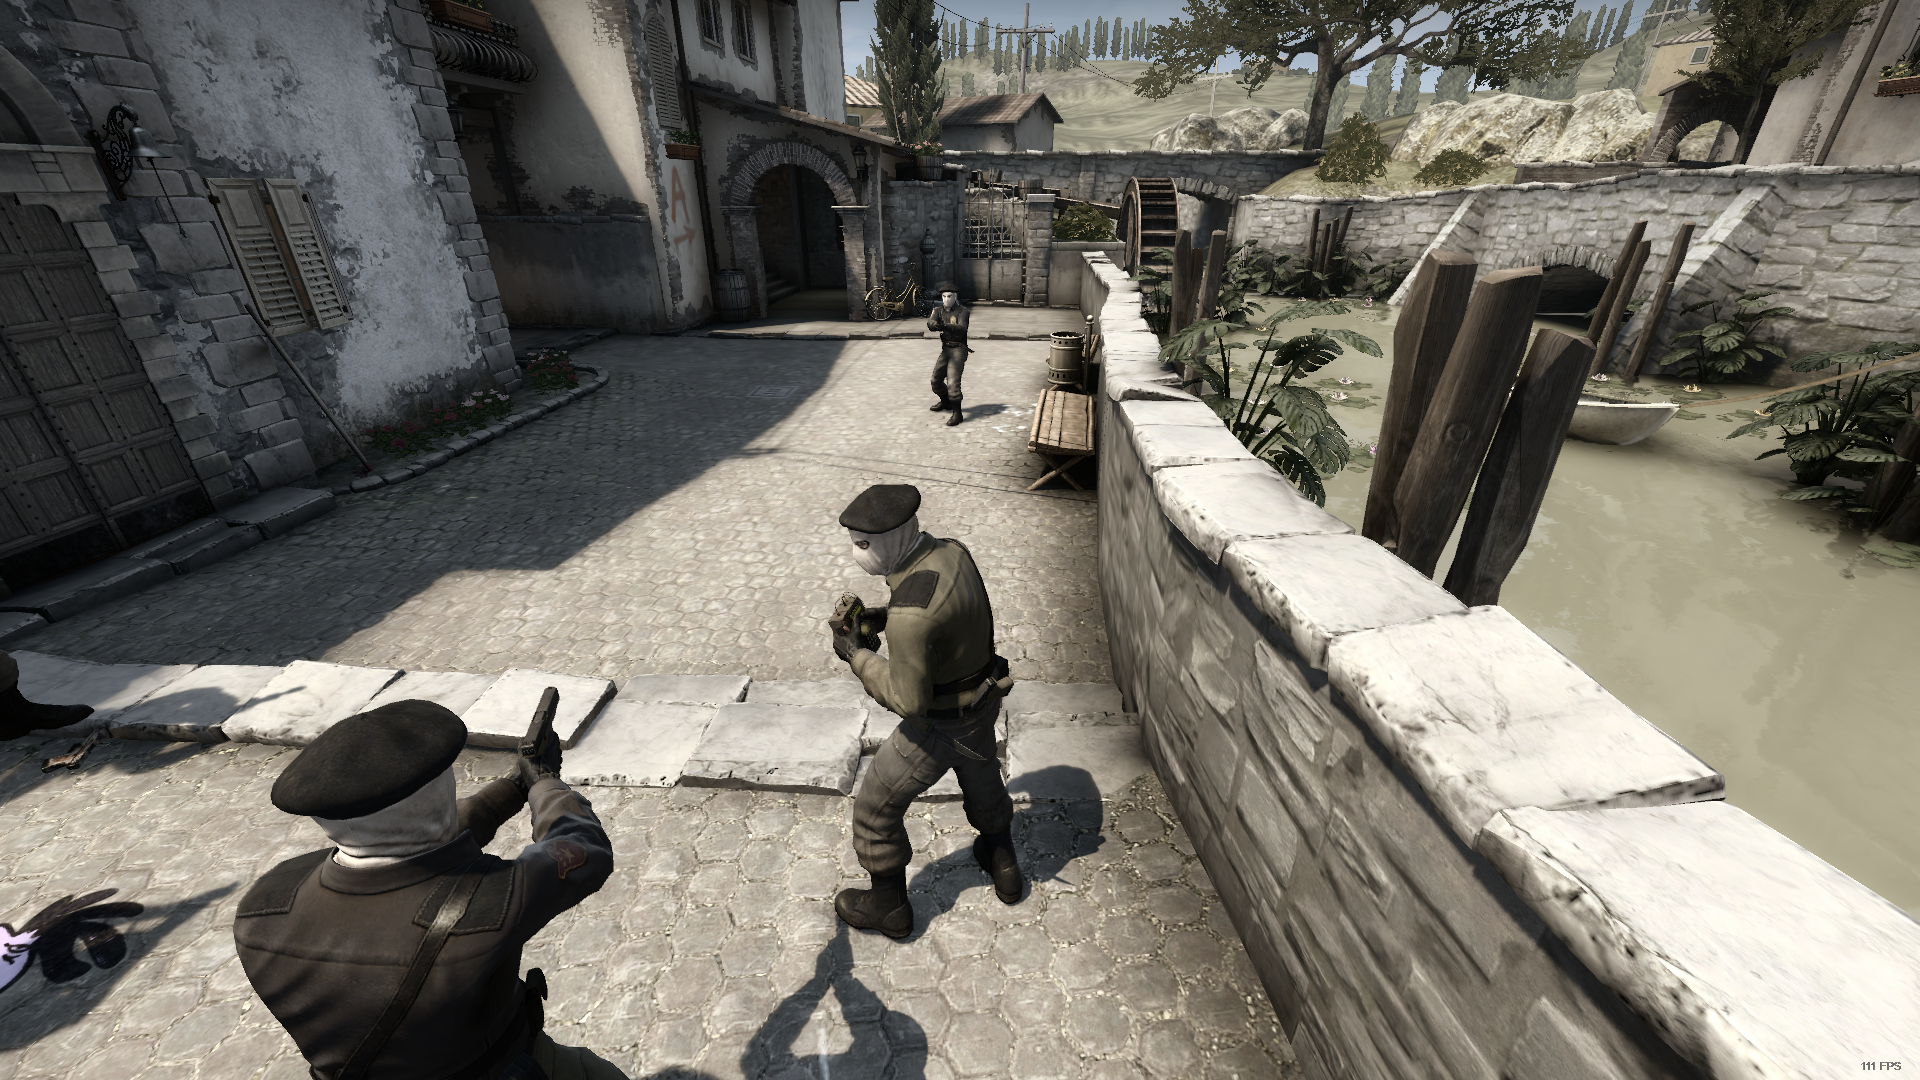t: (233, 700, 616, 1080), (833, 485, 1027, 938), (928, 282, 968, 425)
